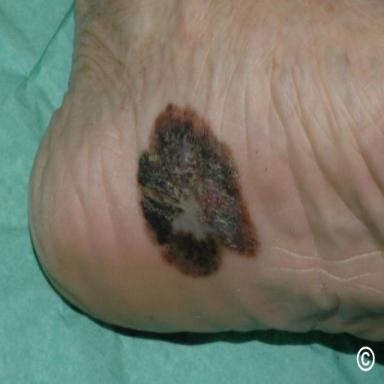Melanoma: (136, 104, 258, 276)
